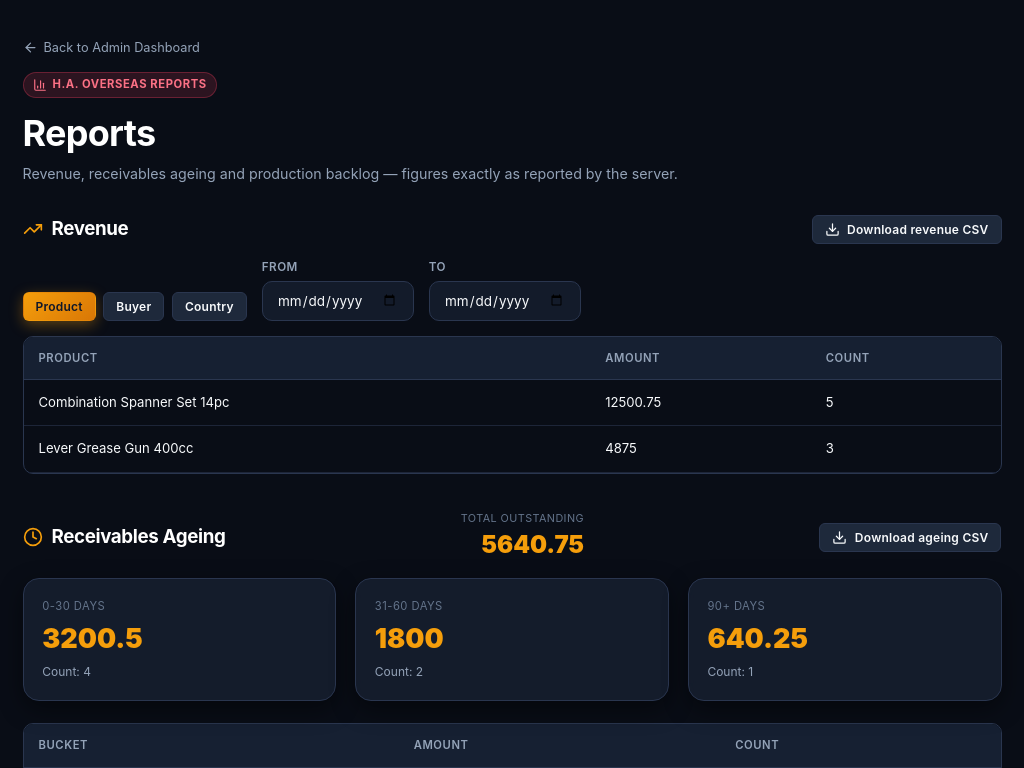
Test case: ReportsPage (v0.6 F3) › refetches revenue with the new groupBy when the switcher is used
Expected: the text "Combination Spanner Set 14pc" is shown, top-left (24, 380), bottom-right (590, 426)
Click the button "Buyer" at {"x": 134, "y": 306}, box top-left (103, 292), bottom-right (164, 321)
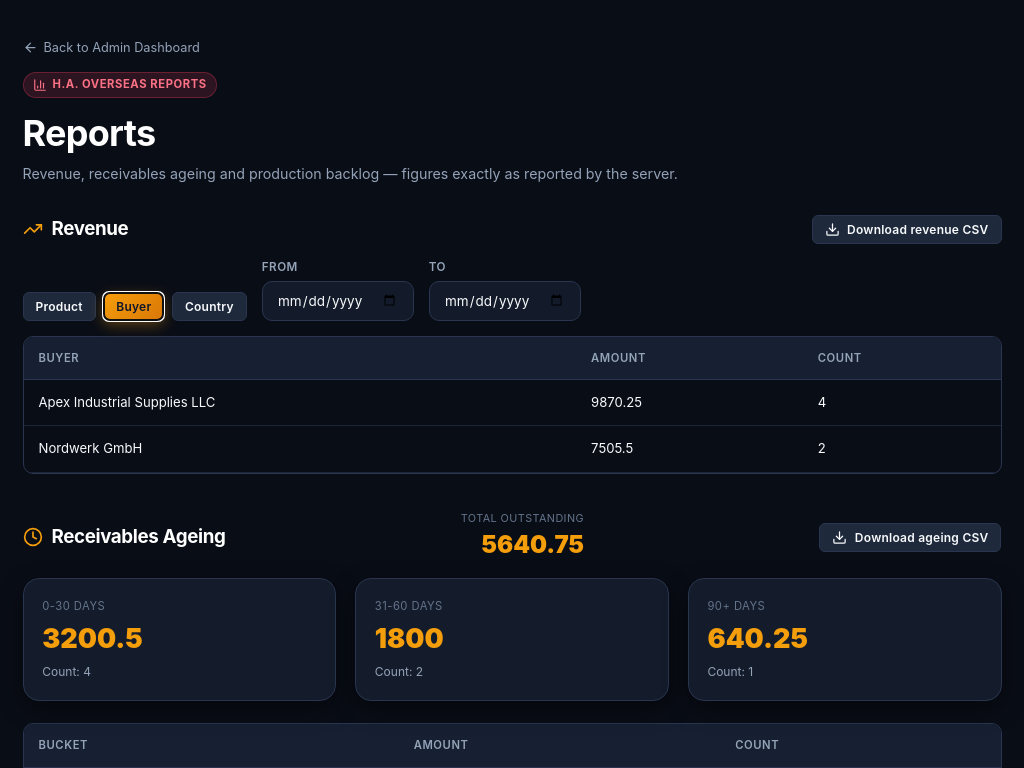
Expected: the text "Apex Industrial Supplies LLC" is shown, top-left (24, 380), bottom-right (576, 426)
Expected: the text "9870.25" is shown, top-left (576, 380), bottom-right (803, 426)
Expected: the text "Combination Spanner Set 14pc" is gone
